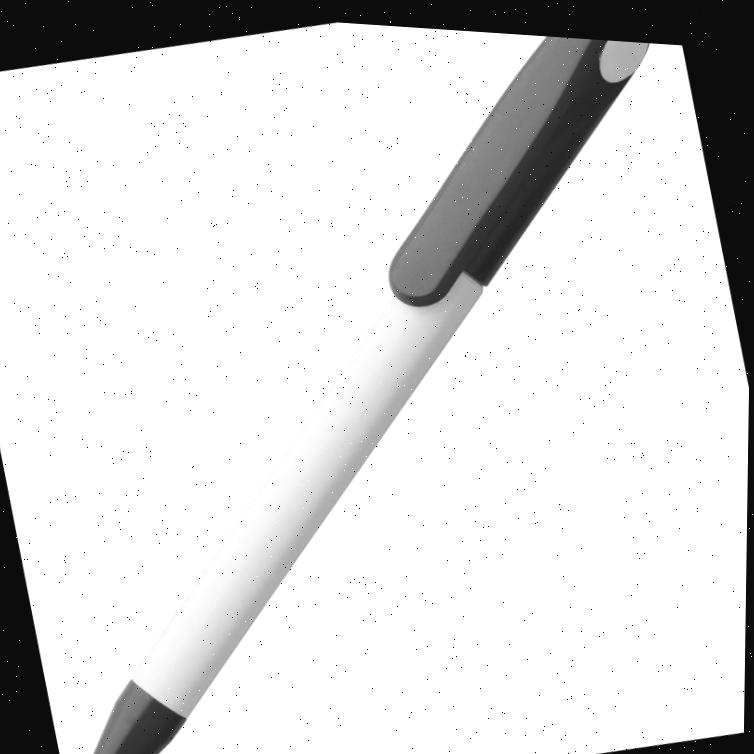pen-pencil: (94, 37, 646, 754)
